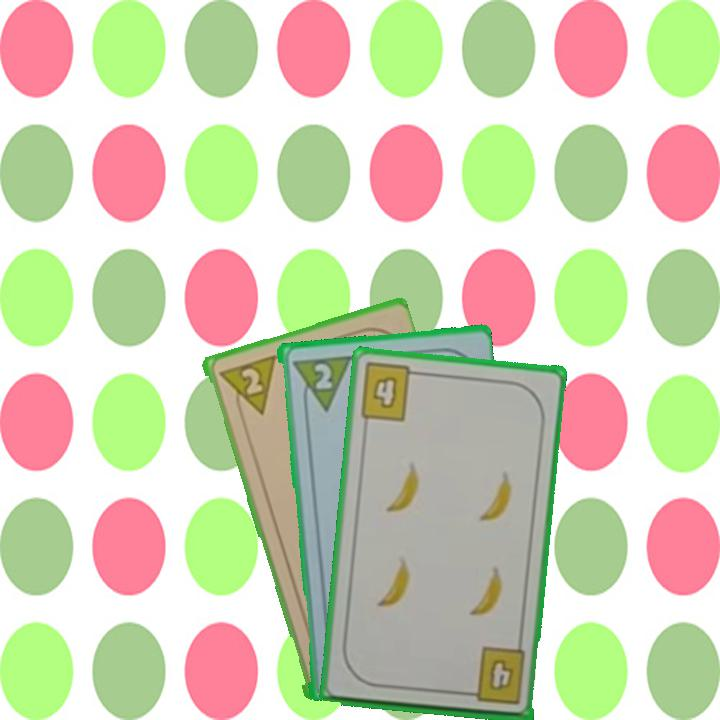2p: (213, 351, 278, 422), (309, 359, 335, 392)
4b: (356, 359, 424, 424), (460, 644, 528, 708)
